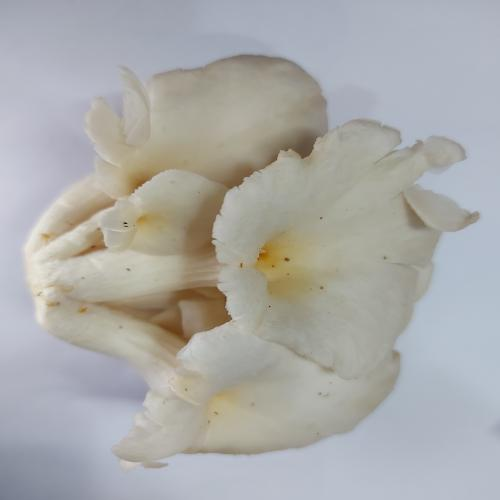Oyster Mushroom: (24, 53, 480, 470)
